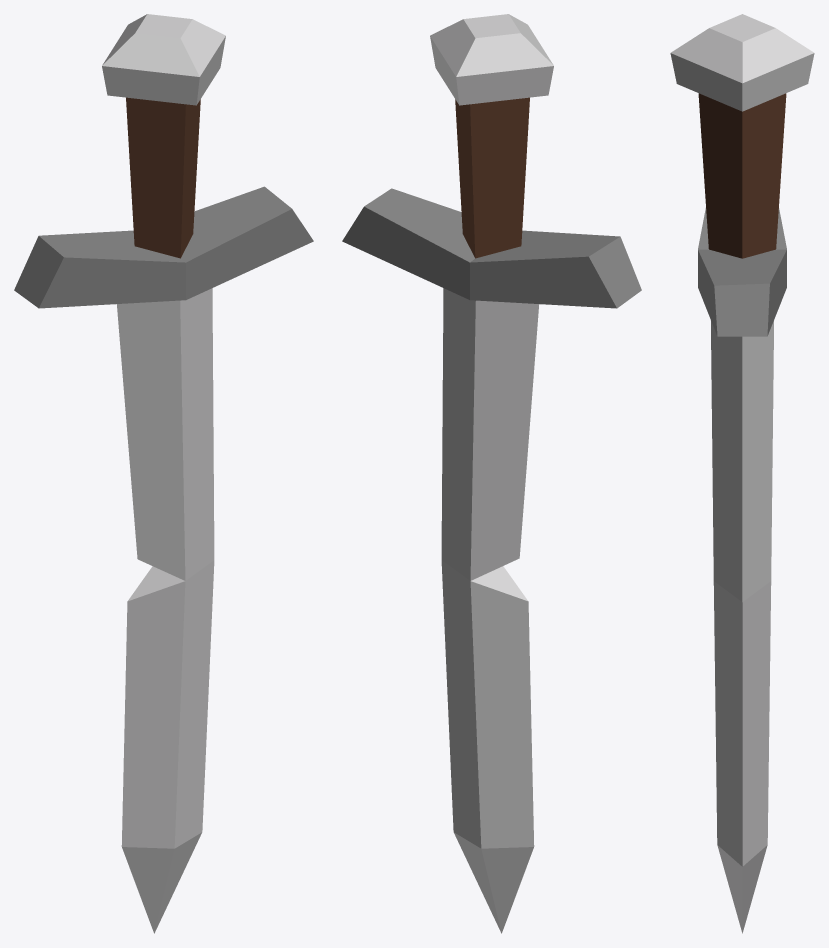
File: Sword.gltf
3 views of the same model, side by side, from view 1: azimuth 30°, elevation 25°; view 2: azimuth 150°, elevation 25°; view 3: azimuth 270°, elevation 25° (orthographic).
Parts seen in each view (by area): view 1: Sword2; view 2: Sword2; view 3: Sword2.
Part boxes in pixels (<box>): Sword2: <box>14,14,313,933</box>; Sword2: <box>342,14,641,933</box>; Sword2: <box>670,14,814,933</box>.
Size of the model in its own units: 0.0972 by 0.3055 by 0.0439.
